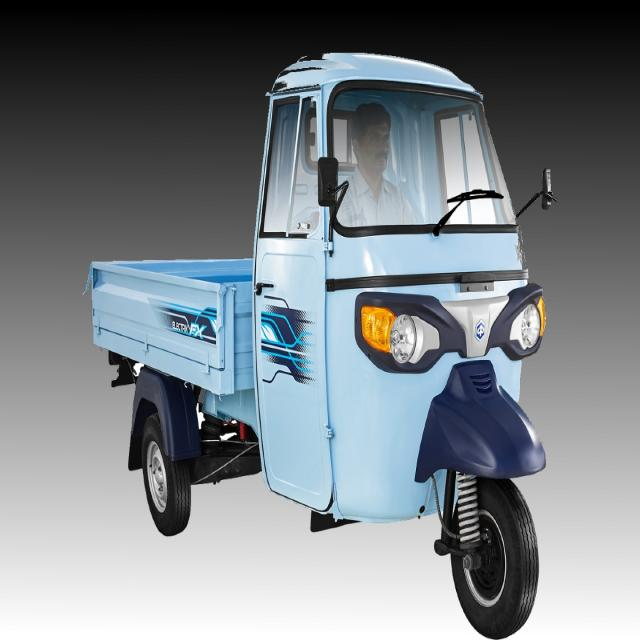autorickshaw: (88, 54, 545, 638)
